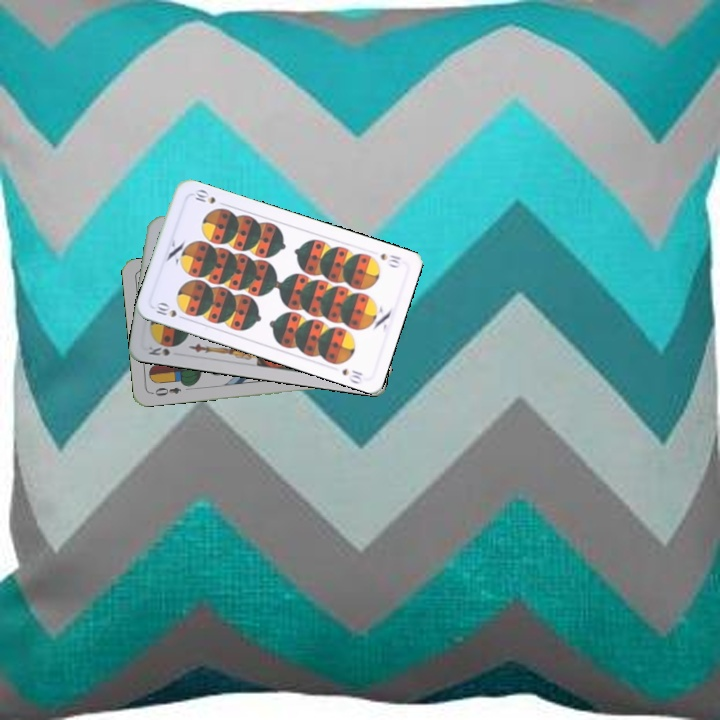EO: (148, 383, 184, 399)
S10: (150, 298, 189, 322), (377, 249, 403, 270)
SK: (144, 342, 172, 359)
